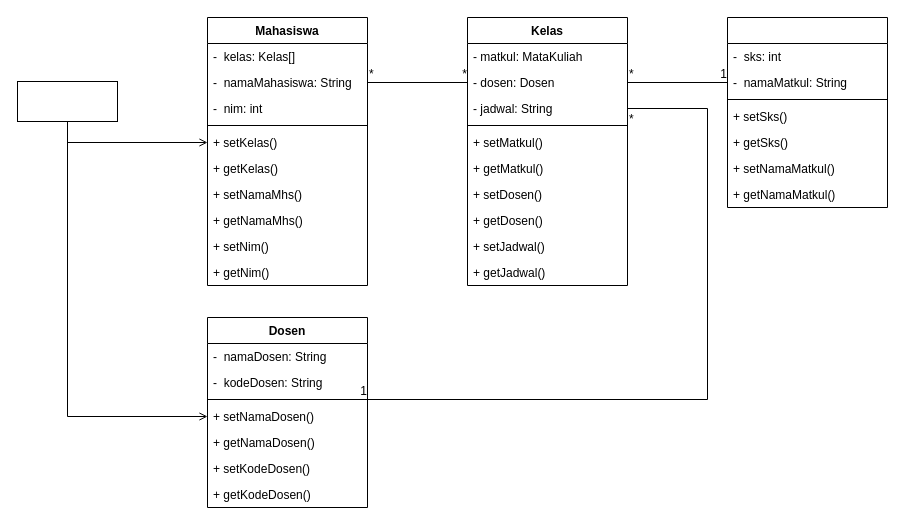
Some shapes in this 905 by 528 pixel diagram are drawn without their labels. Each missing label, with the box of its shape:
Logic: (16, 80, 118, 122)
MataKuliah: (726, 16, 888, 208)
